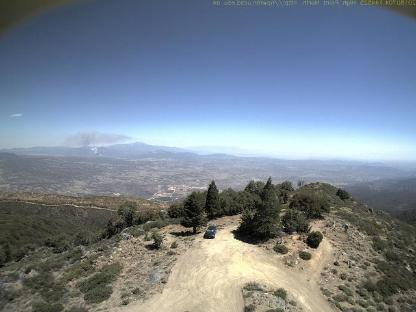smoke: (63, 126, 137, 156)
